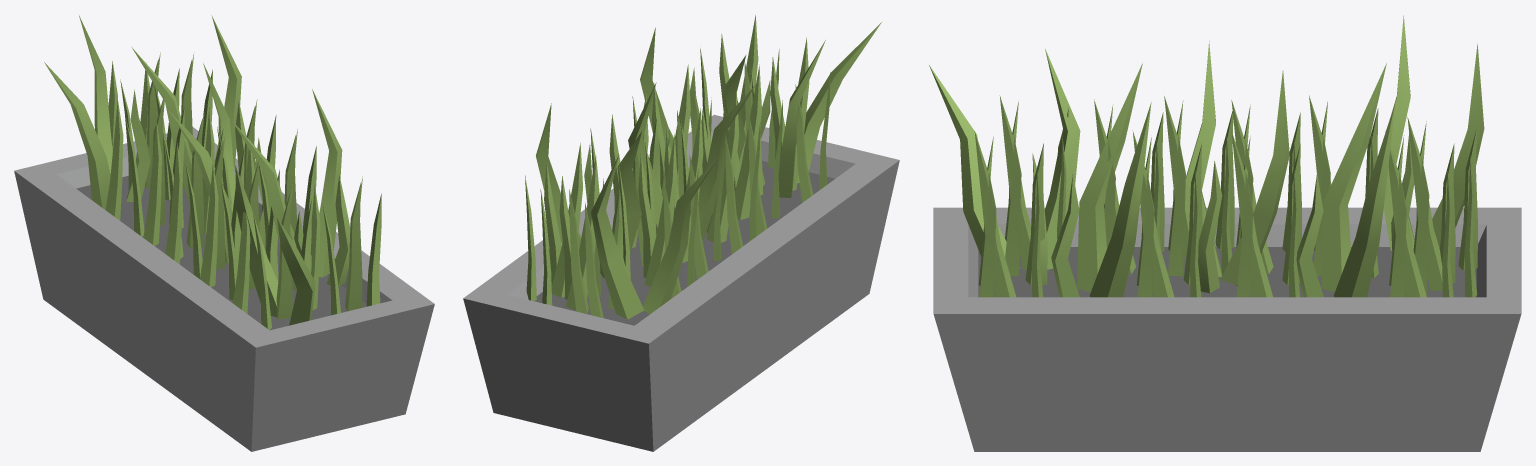
Rendered from Plant.fbx.
The picture shows the model from 3 angles, left to right: view 1: azimuth 30°, elevation 25°; view 2: azimuth 150°, elevation 25°; view 3: azimuth 270°, elevation 25°; orthographic projection. The views are drawn at different scales.
Parts seen in each view (by area): view 1: polySurface106; view 2: polySurface106; view 3: polySurface106.
Part boxes in pixels (box(x1,y1,x2,y2)): polySurface106: box(14, 15, 434, 451); polySurface106: box(463, 15, 899, 451); polySurface106: box(929, 15, 1521, 451).
Bounding box in the file's own units: 0.5537 × 0.7425 × 1.18.
